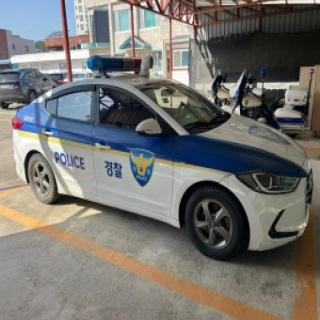Police_car: (10, 53, 317, 261)
